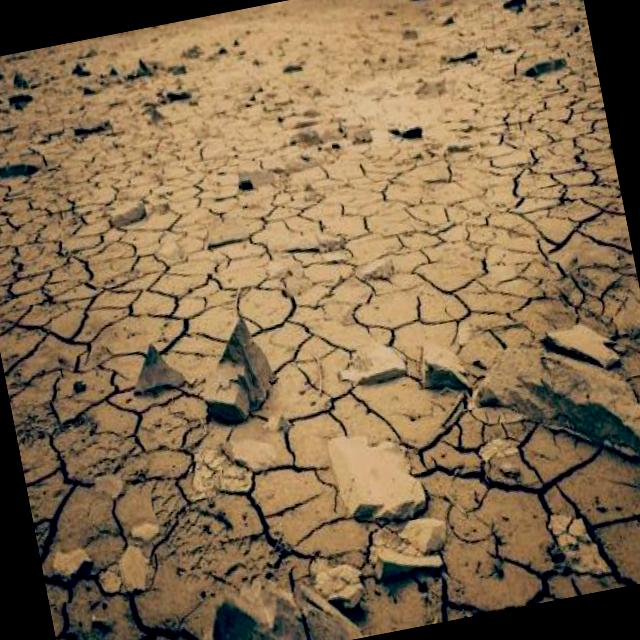suelo_seco: (165, 110, 525, 617)
